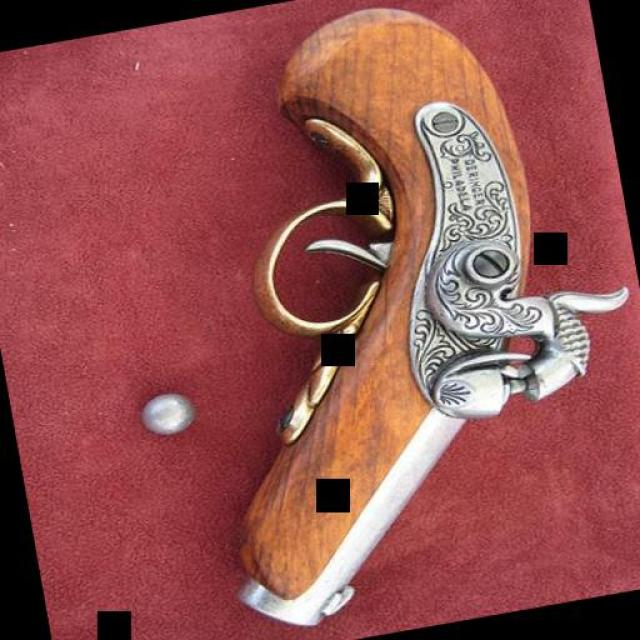gun: (131, 0, 640, 632)
